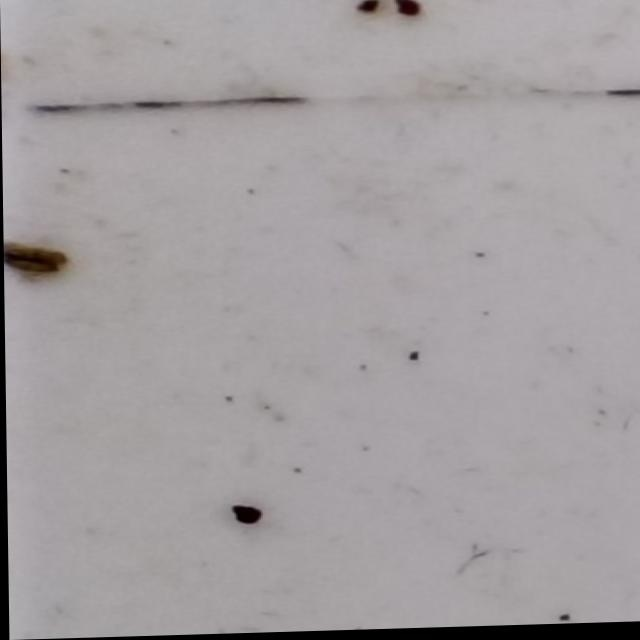varroa: (4, 246, 67, 280)
